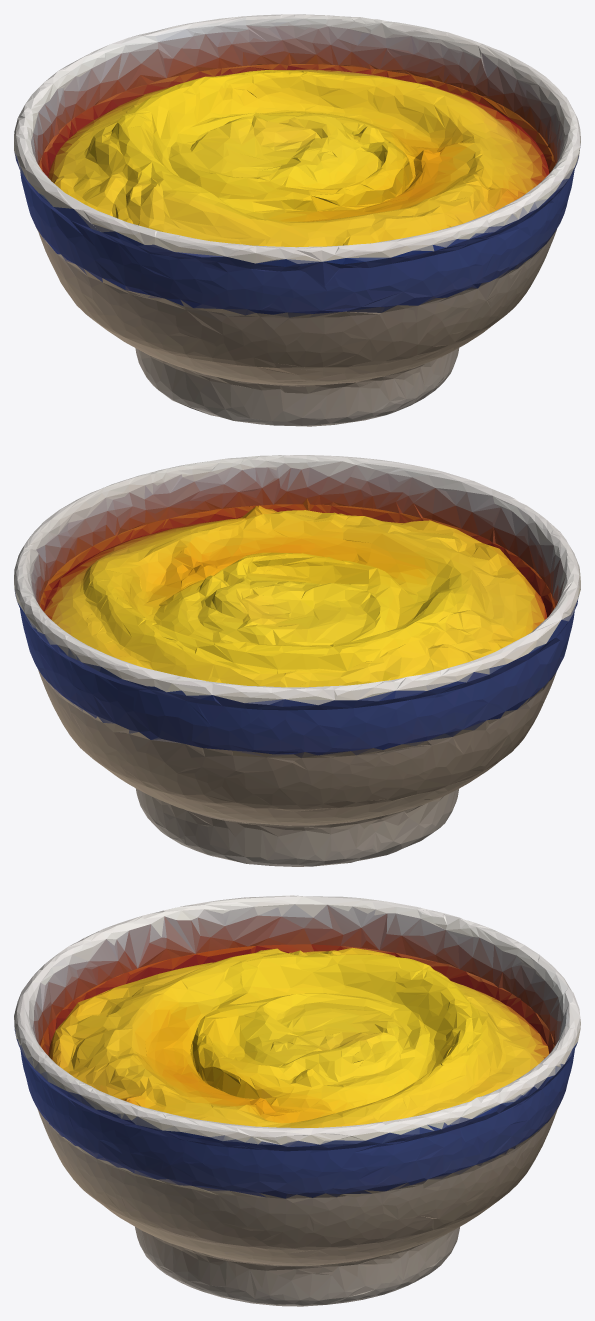
File: egg_custard.glb
The picture shows the model from 3 angles, top to bottom: view 1: azimuth 30°, elevation 25°; view 2: azimuth 150°, elevation 25°; view 3: azimuth 270°, elevation 25°; orthographic projection.
Parts seen in each view (by area): view 1: geometry_0; view 2: geometry_0; view 3: geometry_0.
Part boxes in pixels (left/top/right/bottom): geometry_0: left=14, top=14, right=580, bottom=426; geometry_0: left=14, top=455, right=580, bottom=866; geometry_0: left=14, top=895, right=580, bottom=1306.
Bounding box in the file's own units: 0.13 × 0.0588 × 0.1299.
Materials: 1 (1 with a texture image).
